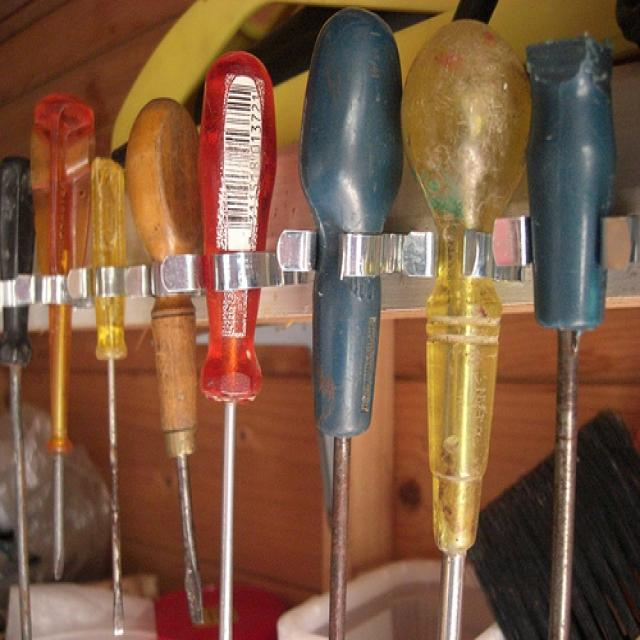Screwdriver: (401, 22, 531, 638), (300, 8, 402, 638), (528, 37, 615, 638), (199, 52, 276, 638), (129, 98, 202, 624), (31, 93, 95, 579), (0, 157, 35, 638), (91, 158, 126, 634)
